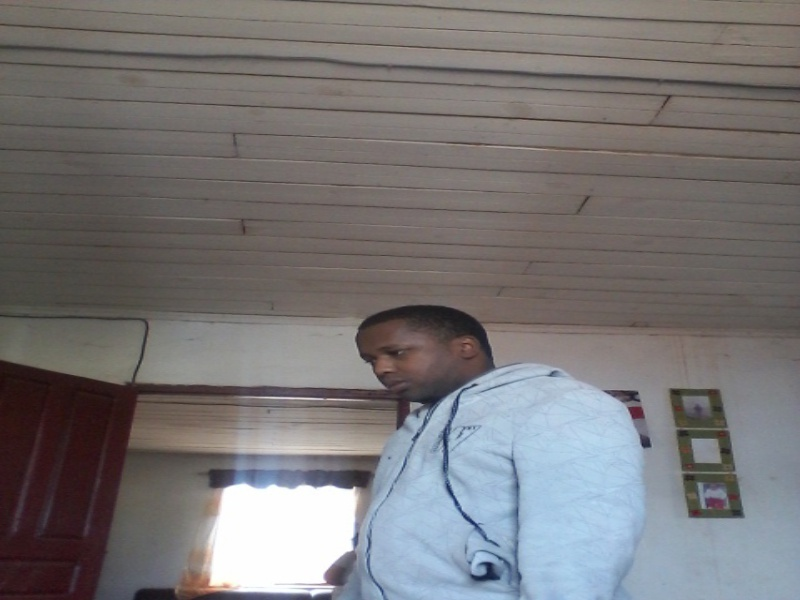TsisyArotava: (339, 288, 505, 412)
